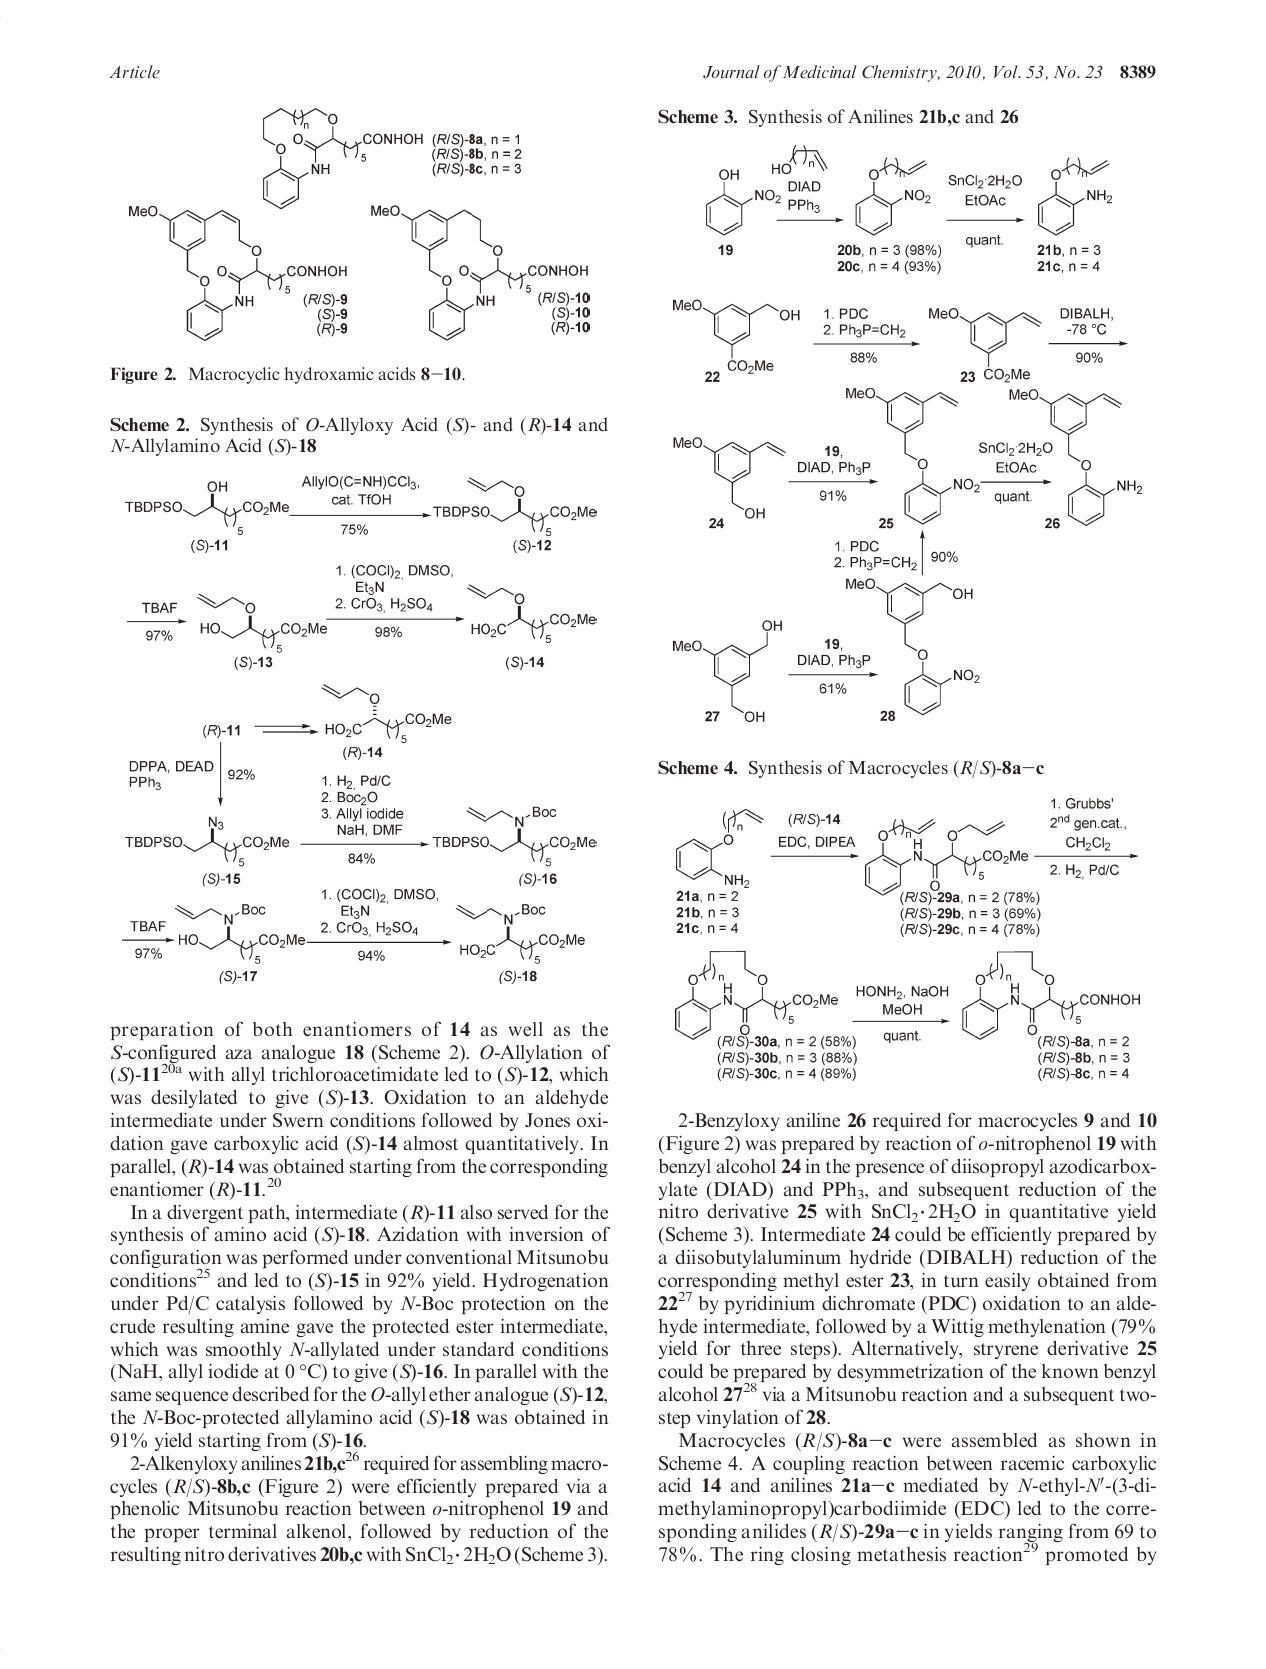exist_molecular: (368, 201, 592, 340), (128, 203, 350, 340), (842, 575, 983, 717), (843, 384, 983, 525), (1005, 386, 1144, 527), (259, 105, 426, 209), (957, 950, 1141, 1041), (672, 948, 840, 1043), (863, 818, 1031, 898), (672, 617, 785, 723), (430, 473, 598, 539), (434, 805, 598, 868), (672, 298, 802, 376), (672, 434, 787, 521), (125, 480, 291, 537), (926, 305, 1043, 383), (125, 813, 293, 867), (453, 900, 588, 967), (172, 900, 309, 965), (461, 580, 600, 644), (319, 680, 453, 743), (191, 589, 328, 652), (676, 806, 766, 888), (854, 156, 934, 235), (1035, 156, 1112, 237), (703, 168, 785, 238), (770, 144, 830, 174)
